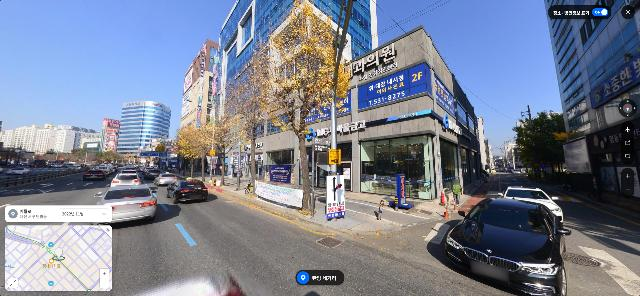ginkgo: (264, 1, 356, 210), (226, 50, 284, 196), (209, 106, 244, 187), (175, 123, 209, 178)
